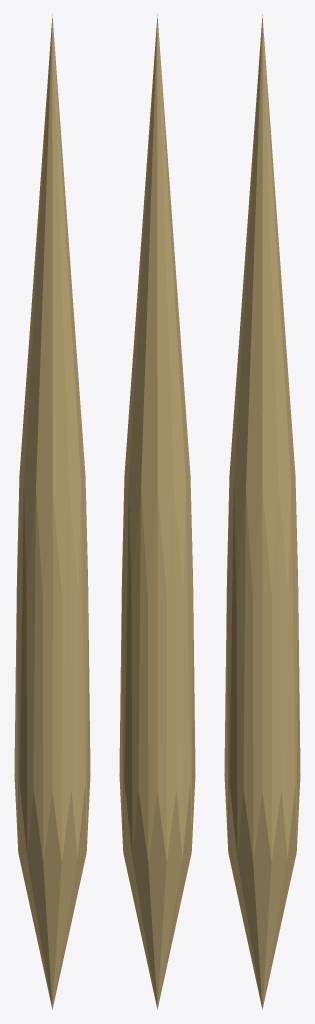
File: SM_Kurdan.fbx
The picture shows the model from 3 angles, left to right: view 1: azimuth 90°, elevation 25°; view 2: azimuth 150°, elevation 25°; view 3: azimuth 270°, elevation 25°; orthographic projection.
Visible parts, largest first — view 1: Cylinder; view 2: Cylinder; view 3: Cylinder.
Part boxes in pixels (<box>): Cylinder: <box>14,14,90,1009</box>; Cylinder: <box>119,14,195,1009</box>; Cylinder: <box>224,14,300,1009</box>.
Bounding box in the file's own units: 4.06 × 58.72 × 4.06.
